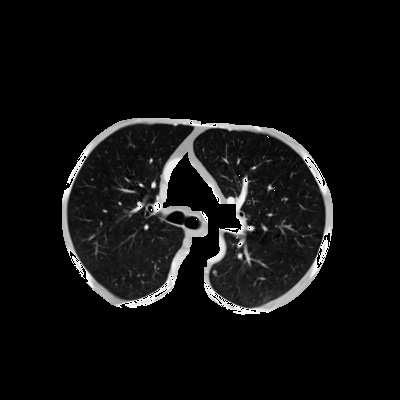PN: (213, 271, 217, 275)
